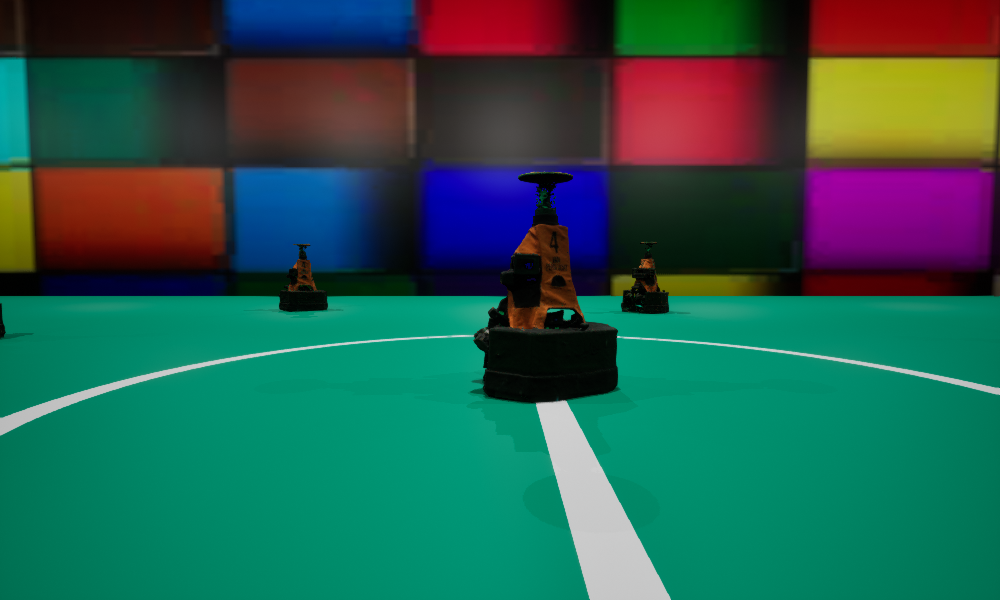o: (473, 171, 617, 401), (621, 242, 668, 312), (278, 244, 327, 310), (0, 303, 5, 336)
